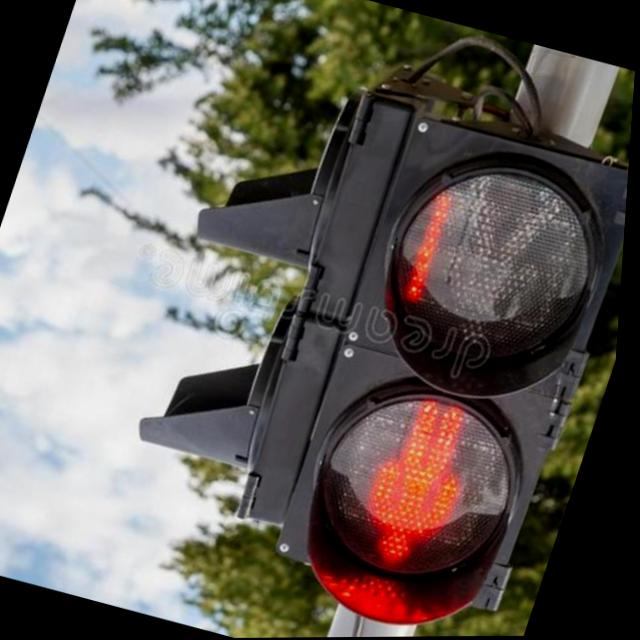red_light: (292, 370, 555, 606)
